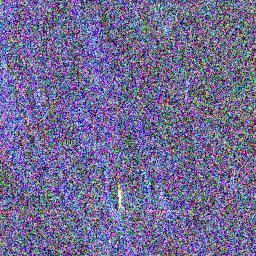Ship: (110, 186, 129, 208)
